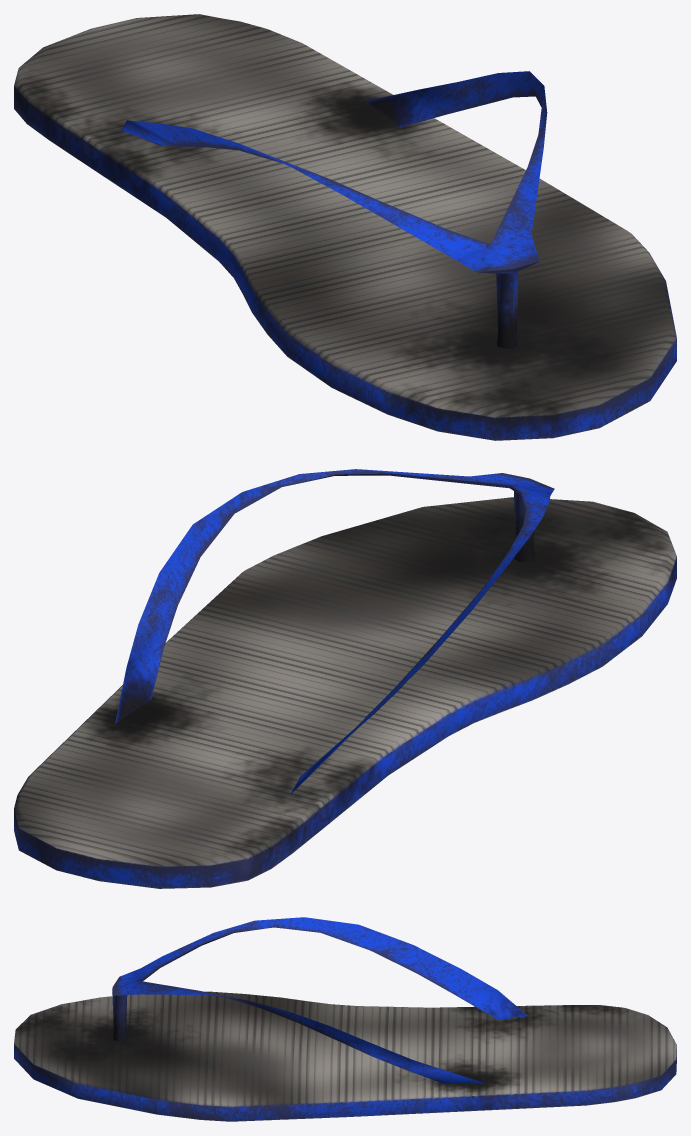
File: Shoes_003_Slipper_Right.fbx
3 views of the same model, one above another, from view 1: azimuth 30°, elevation 25°; view 2: azimuth 150°, elevation 25°; view 3: azimuth 270°, elevation 25° (orthographic). The views are drawn at different scales.
Parts seen in each view (by area): view 1: Slipper_Right; view 2: Slipper_Right; view 3: Slipper_Right.
Boxes of the visible parts, x1,y1,x2,y2 form: Slipper_Right: (14, 14, 676, 440); Slipper_Right: (14, 469, 676, 888); Slipper_Right: (14, 917, 676, 1121).
Bounding box in the file's own units: 12.11 × 4.95 × 29.8.
1 material, 1 textured.
